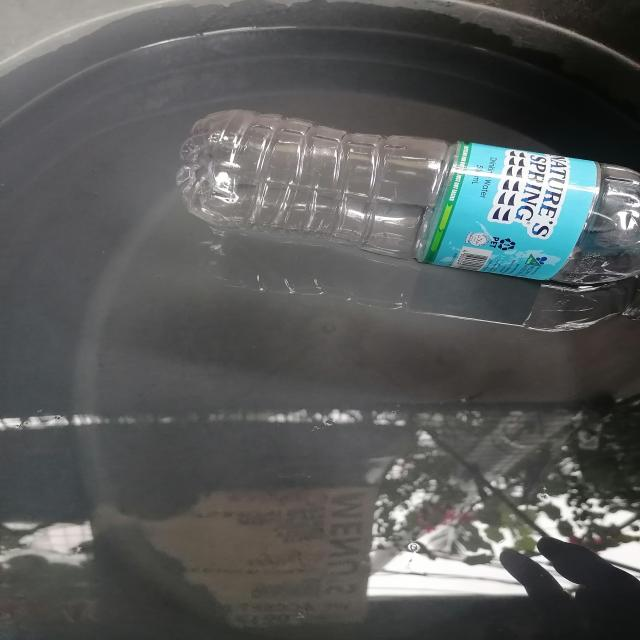Plastic Bottle: (177, 110, 640, 287)
